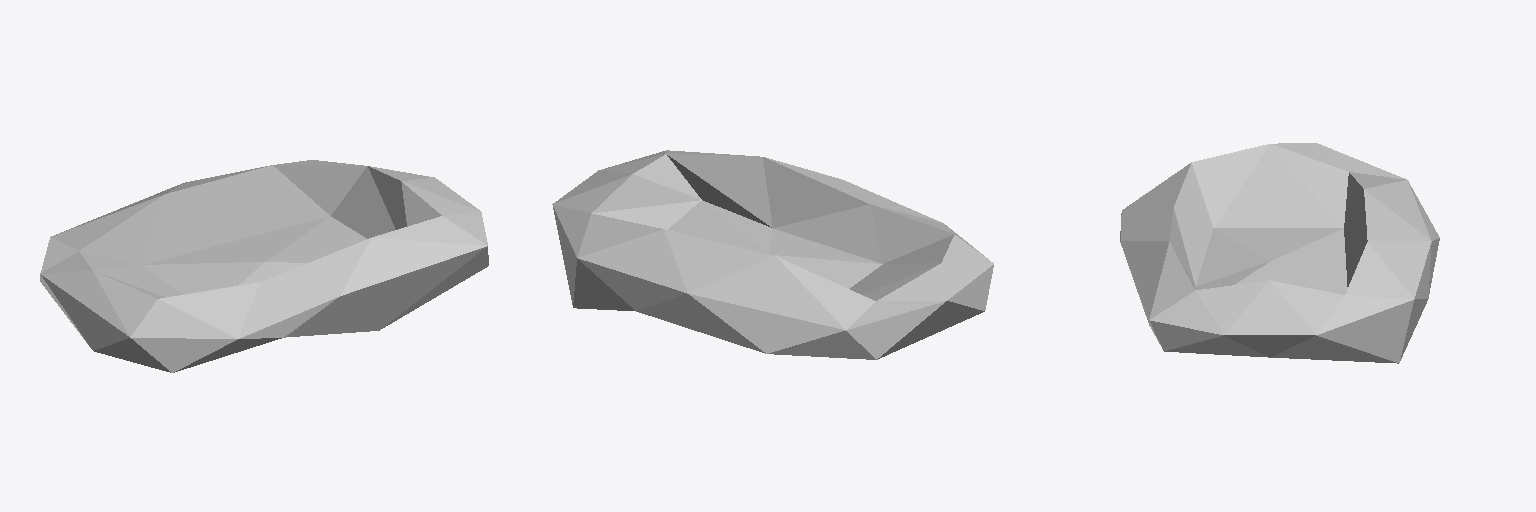
Rendered from cartCloud.obj.
3 renders of one model, left to right at view 1: azimuth 30°, elevation 25°; view 2: azimuth 150°, elevation 25°; view 3: azimuth 270°, elevation 25°, orthographic.
Parts seen in each view (by area): view 1: Icosphere; view 2: Icosphere; view 3: Icosphere.
Part boxes in pixels (bbox=[...]): Icosphere: bbox=[40, 160, 488, 372]; Icosphere: bbox=[552, 150, 993, 359]; Icosphere: bbox=[1120, 143, 1439, 363].
Size of the model in its own units: 6.77 by 1.45 by 4.76.